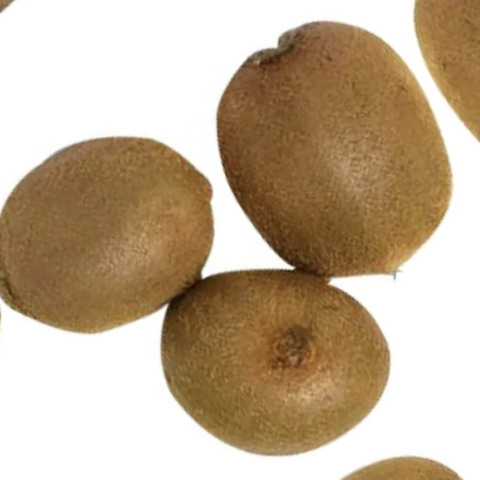kiwi: (156, 0, 480, 346), (101, 191, 440, 480), (0, 67, 263, 373)
